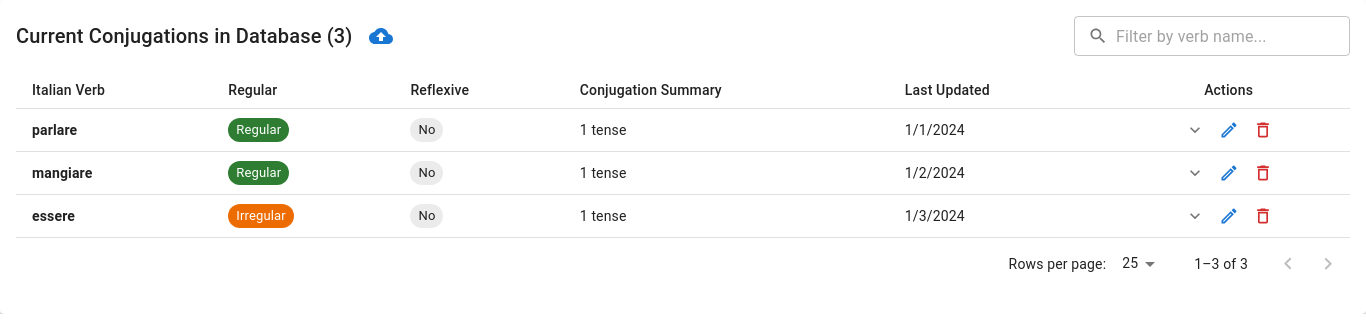
it: ConjugationsList › Filtering › should show no results message when filter matches nothing
In the field with placeholder "Filter by verb name...": [1233, 36] box [1116, 16, 1350, 56], type "nonexistent"
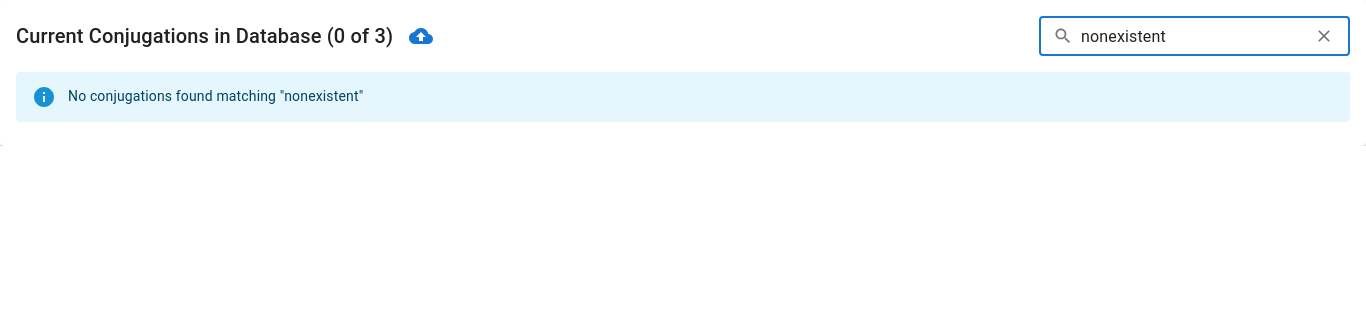
Check: the text "No conjugations found matching \"nonexistent\"" is shown, box [68, 88, 363, 104]
